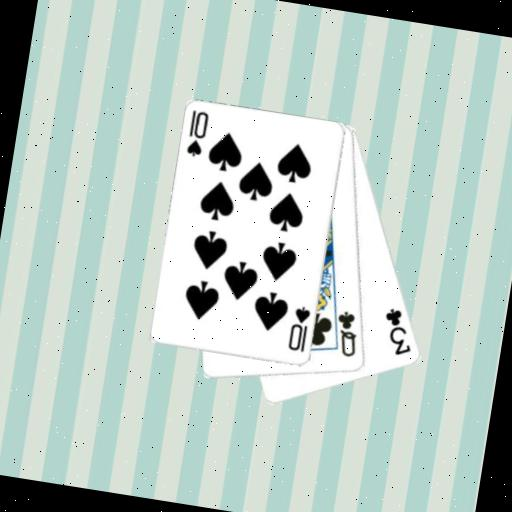10S: (285, 301, 314, 354), (182, 107, 211, 160)
3C: (376, 304, 419, 359)
QC: (329, 306, 363, 360)
